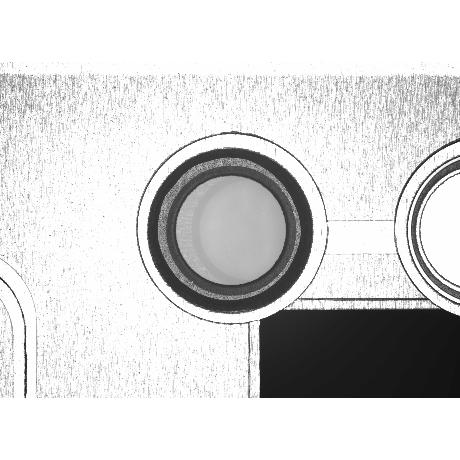Hole: (148, 148, 314, 314)
Hole2: (158, 158, 302, 300)
Hole3: (167, 167, 295, 295)
Hole4: (176, 176, 286, 286)
